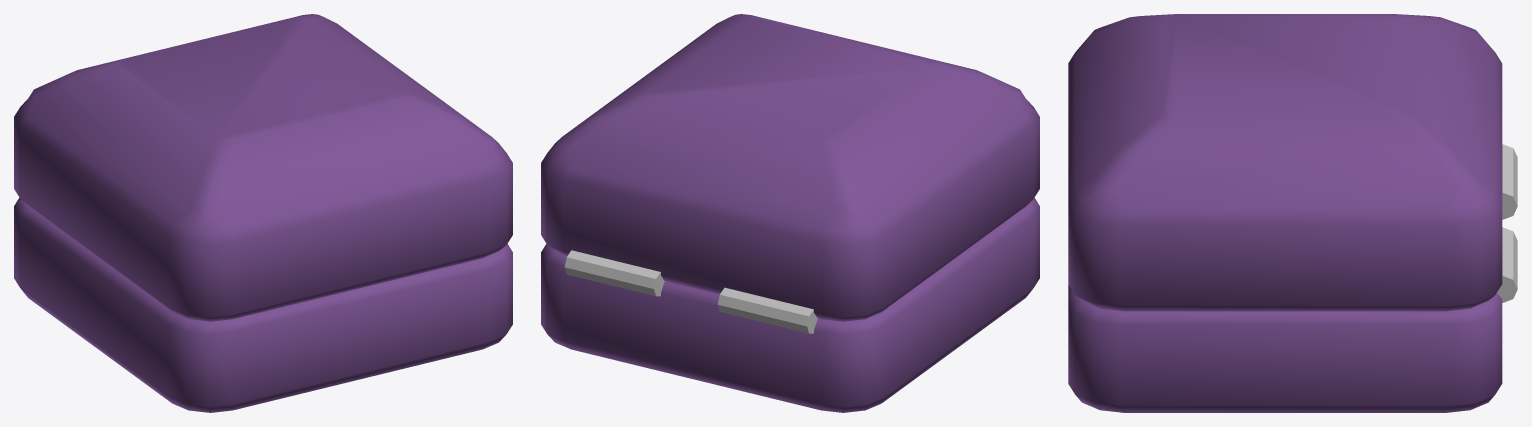
Rendered from jewelryBox.fbx.
3 views of the same model, side by side, from view 1: azimuth 30°, elevation 25°; view 2: azimuth 150°, elevation 25°; view 3: azimuth 270°, elevation 25° (orthographic). The views are drawn at different scales.
Visible parts, largest first — view 1: Jewelry Box; view 2: Jewelry Box; view 3: Jewelry Box.
Boxes of the visible parts, box(x1,y1,x2,y2) form: Jewelry Box: box(14, 14, 512, 412); Jewelry Box: box(541, 14, 1039, 412); Jewelry Box: box(1068, 14, 1517, 412).
Size of the model in its own units: 25.5 by 26.41 by 16.76.
